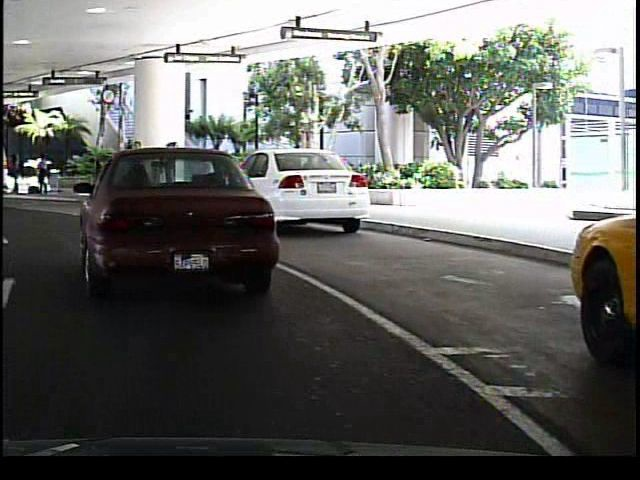person: (123, 136, 146, 201), (159, 137, 182, 197), (200, 144, 225, 194), (33, 154, 57, 197), (7, 147, 25, 197)
